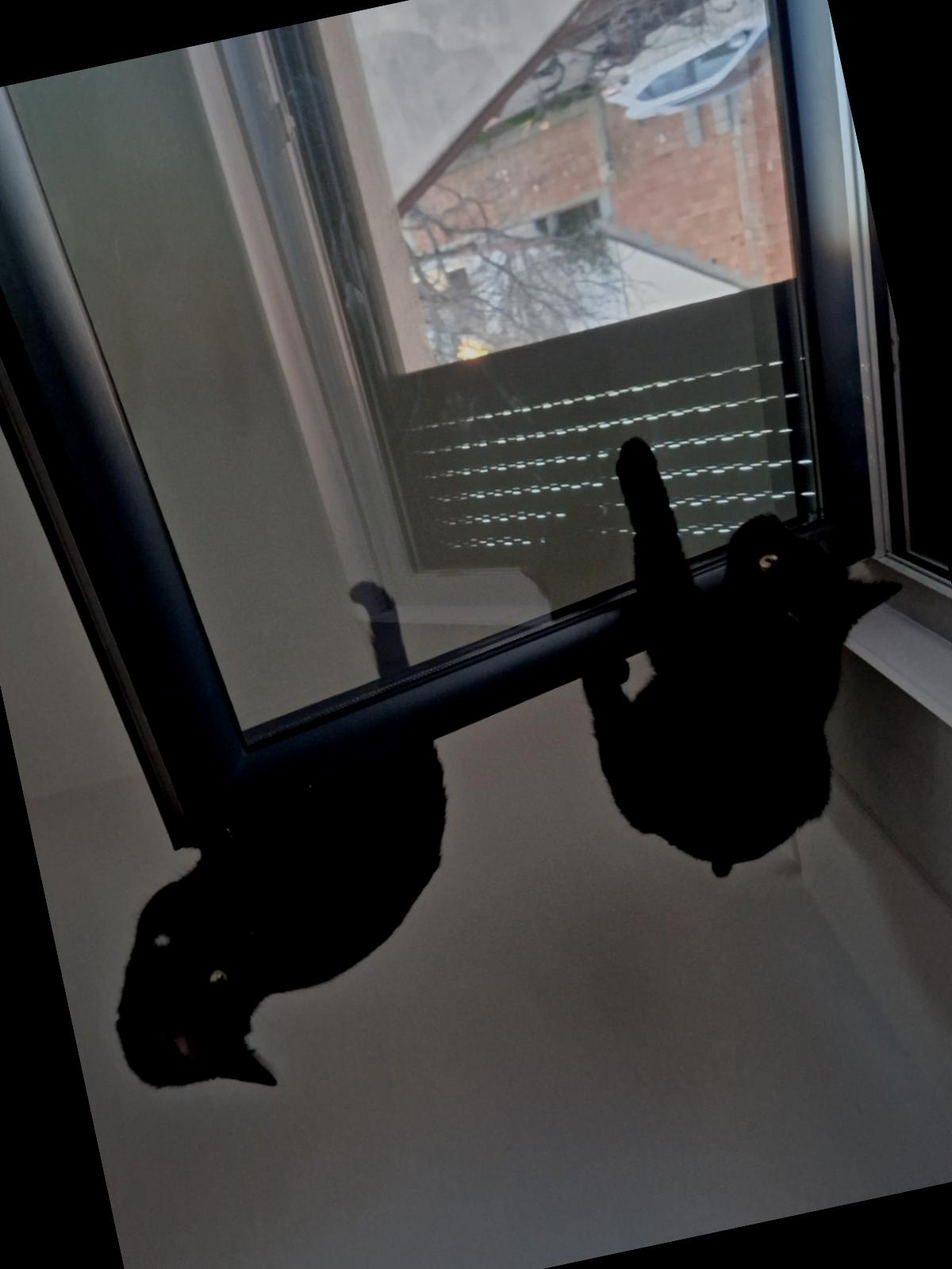macka: (29, 561, 505, 1120), (529, 385, 952, 907)
